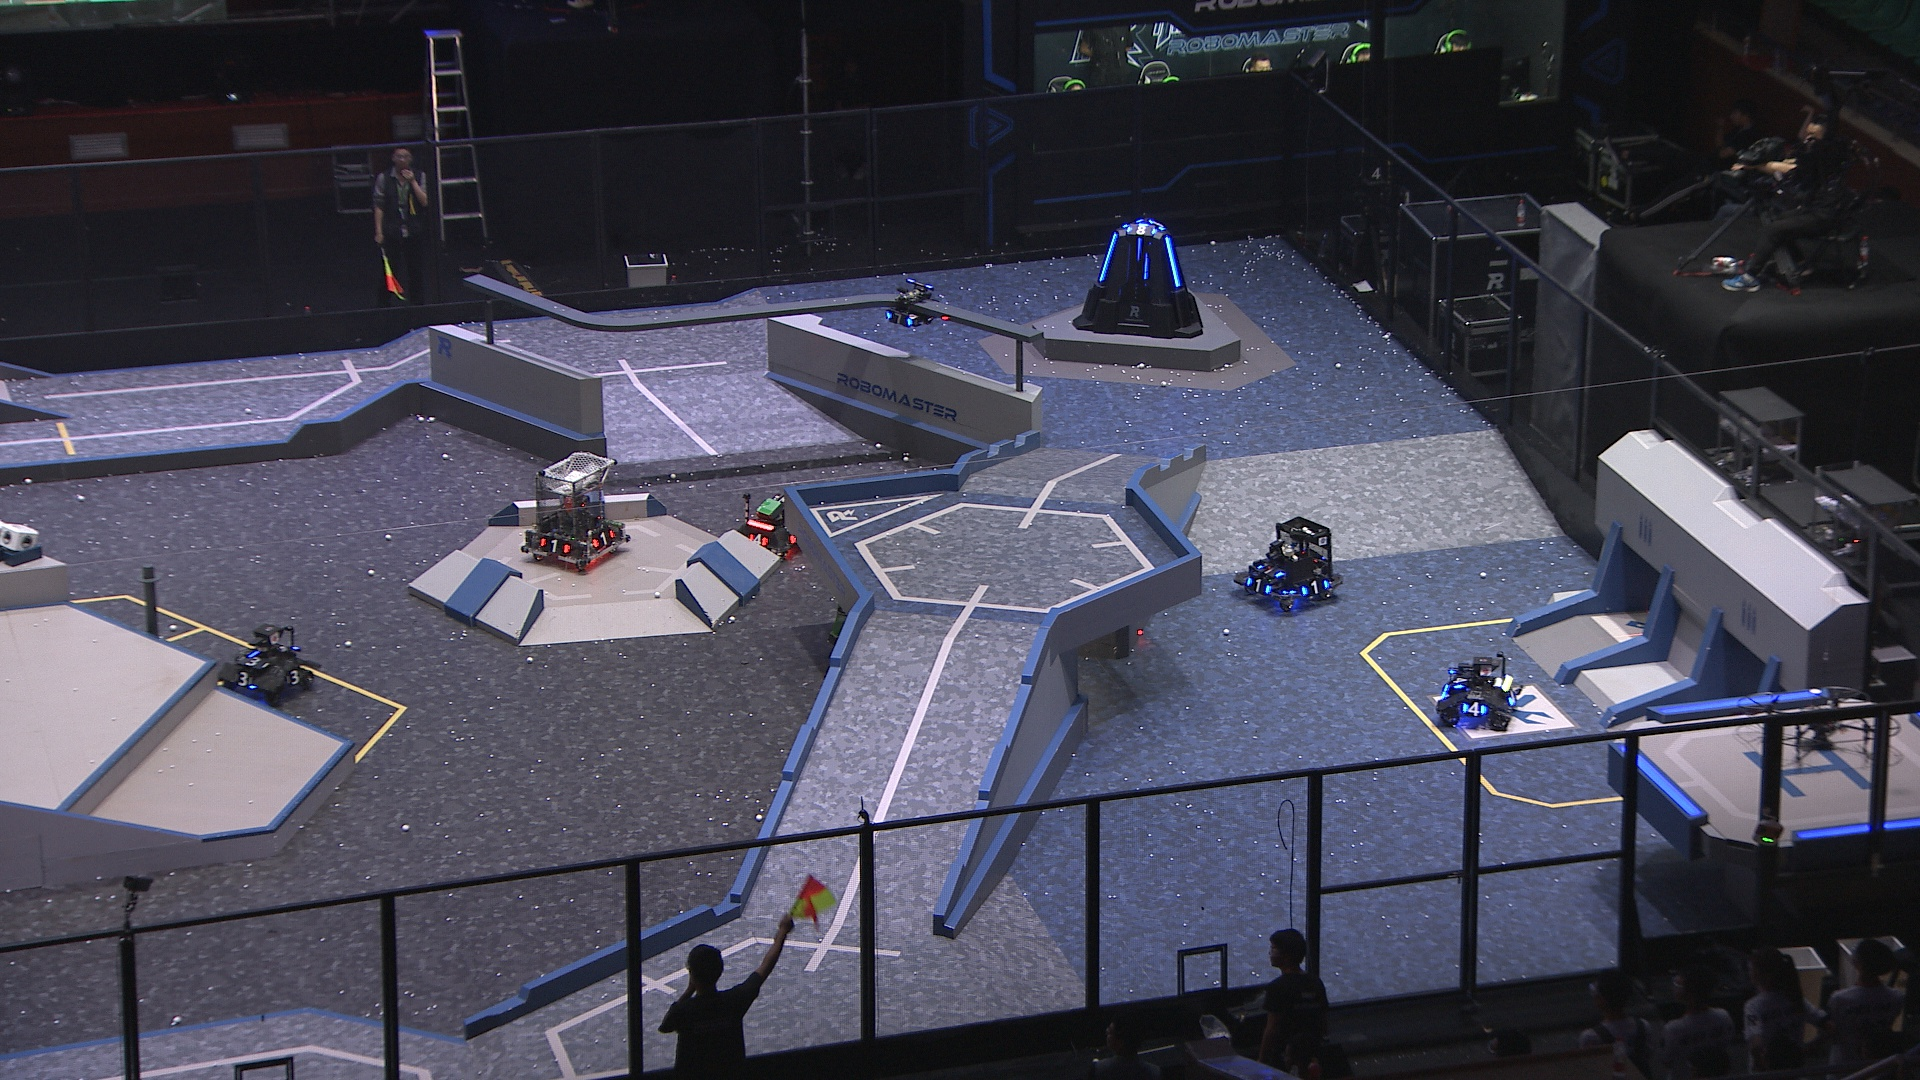armor: (1097, 233, 1120, 284), (1163, 235, 1183, 287), (537, 537, 572, 556), (1254, 562, 1288, 580), (591, 527, 617, 550), (884, 310, 915, 328), (1299, 579, 1331, 597), (237, 654, 272, 670), (1244, 576, 1273, 593), (1126, 223, 1159, 237), (746, 529, 770, 549), (1460, 702, 1489, 717), (1449, 671, 1470, 692), (233, 670, 255, 688), (284, 666, 301, 687), (1134, 237, 1145, 262), (1506, 688, 1518, 708)
base: (1069, 218, 1205, 338)
car: (517, 451, 636, 571), (1234, 512, 1346, 613), (216, 624, 311, 704), (1433, 650, 1523, 731), (728, 495, 804, 562)
watcher: (884, 278, 940, 332)
